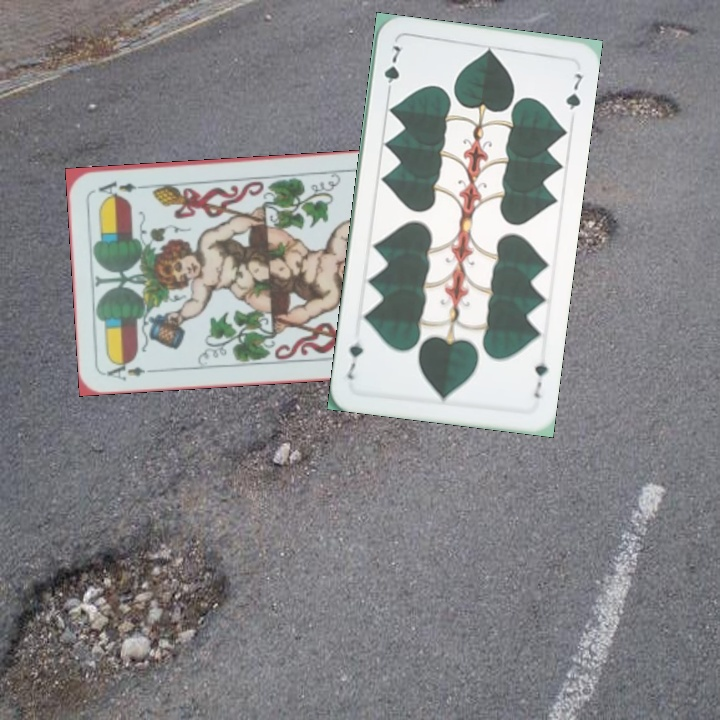EA: (102, 357, 162, 383)
G7: (380, 41, 404, 98), (530, 358, 551, 401)
